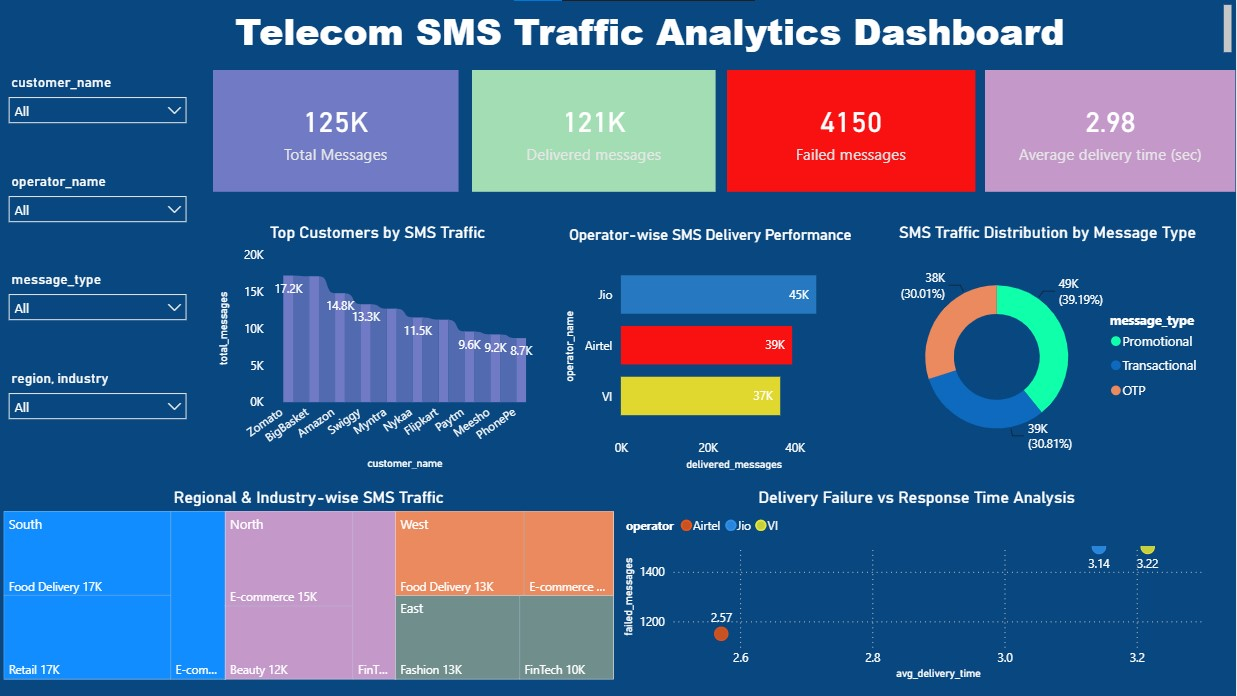

The page's visual inventory and layout, read from the dashboard file:
{"tool":"powerbi","page":{"name":"Page 1","canvas":[1280,720],"ordinal":0},"visuals":[{"type":"card","fields":{"Values":["Sum(customer_performance_analysis.total_messages)"]},"box":[221.1,72.3,253.7,126.1],"z":0},{"type":"card","fields":{"Values":["Sum(operator_performance_analysis.total_delivered)"]},"box":[489,72.3,252.3,126.1],"z":1000},{"type":"card","fields":{"Values":["Sum(delivery_failure_analysis.total_failed_messages)"]},"box":[752.6,72.3,256.5,126.1],"z":2000},{"type":"card","fields":{"Values":["Avg(delivery_failure_analysis.avg_delivery_time)"]},"box":[1020.5,72.3,259.4,126.1],"z":3000},{"type":"clusteredBarChart","title":"Operator-wise SMS Delivery Performance","fields":{"Category":["operator_performance_analysis.operator_name"],"Y":["Sum(operator_performance_analysis.total_delivered)"]},"box":[579.7,232.4,313.2,258],"z":4000},{"type":"ribbonChart","title":"Top Customers by SMS Traffic","fields":{"Category":["customer_performance_analysis. customer_name"],"Y":["Sum(customer_performance_analysis.total_messages)"]},"box":[221.1,231,340.2,259.4],"z":5000},{"type":"treemap","title":"Regional & Industry-wise SMS Traffic","fields":{"Group":["region & industry_analysis.region"],"Details":["region & industry_analysis.industry"],"Values":["Sum(region & industry_analysis.total_messages)"]},"box":[0,504.6,640.6,202.7],"z":6000},{"type":"donutChart","title":"SMS Traffic Distribution by Message Type","fields":{"Category":["message_type_analysis.message_type"],"Y":["Sum(message_type_analysis.total_messages)"]},"box":[909.9,231,348.7,258],"z":7000},{"type":"scatterChart","title":"Delivery Failure vs Response Time Analysis","fields":{"X":["delivery_failure_analysis.avg_delivery_time"],"Y":["Sum(delivery_failure_analysis.total_failed_messages)"],"Series":["delivery_failure_analysis. operator"]},"box":[640.6,504.6,618,202.7],"z":8000},{"type":"slicer","fields":{"Values":["customer_performance_analysis. customer_name"]},"box":[0,72.3,204.1,82.2],"z":9000},{"type":"slicer","fields":{"Values":["operator_performance_analysis.operator_name"]},"box":[0,174.3,204.1,83.6],"z":10000},{"type":"slicer","fields":{"Values":["message_type_analysis.message_type"]},"box":[0,276.4,204.1,83.6],"z":11000},{"type":"slicer","fields":{"Values":["region & industry_analysis.region","region & industry_analysis.industry"]},"box":[0,378.4,204.1,87.9],"z":12000},{"type":"textbox","box":[0,0,1279.8,60.9],"z":13000}]}

Visuals, with their boxes in screenshot pixels (x1, y1, x2, y2), scaled from the page's 1280x720 canvas onto the 1237x696 screenshot:
card - Sum(customer_performance_analysis.total_messages): [x1=214, y1=70, x2=459, y2=192]
card - Sum(operator_performance_analysis.total_delivered): [x1=473, y1=70, x2=716, y2=192]
card - Sum(delivery_failure_analysis.total_failed_messages): [x1=727, y1=70, x2=975, y2=192]
card - Avg(delivery_failure_analysis.avg_delivery_time): [x1=986, y1=70, x2=1236, y2=192]
"Operator-wise SMS Delivery Performance" clusteredBarChart: [x1=560, y1=225, x2=863, y2=474]
"Top Customers by SMS Traffic" ribbonChart: [x1=214, y1=223, x2=542, y2=474]
"Regional & Industry-wise SMS Traffic" treemap: [x1=0, y1=488, x2=619, y2=684]
"SMS Traffic Distribution by Message Type" donutChart: [x1=879, y1=223, x2=1216, y2=473]
"Delivery Failure vs Response Time Analysis" scatterChart: [x1=619, y1=488, x2=1216, y2=684]
slicer - customer_performance_analysis. customer_name: [x1=0, y1=70, x2=197, y2=149]
slicer - operator_performance_analysis.operator_name: [x1=0, y1=168, x2=197, y2=249]
slicer - message_type_analysis.message_type: [x1=0, y1=267, x2=197, y2=348]
slicer - region & industry_analysis.region x region & industry_analysis.industry: [x1=0, y1=366, x2=197, y2=451]
textbox: [x1=0, y1=0, x2=1236, y2=59]
